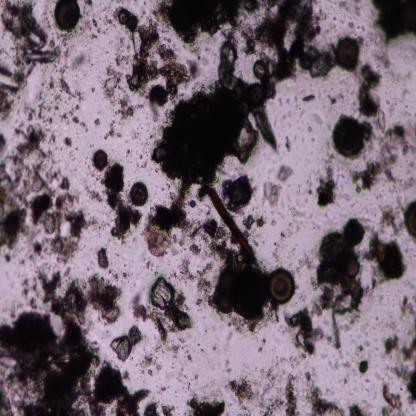Background material: (0, 310, 149, 416), (150, 76, 288, 188), (0, 156, 84, 262), (26, 261, 121, 332), (126, 20, 202, 97), (252, 0, 324, 77), (154, 0, 261, 50), (352, 121, 416, 194), (314, 264, 365, 346), (16, 66, 84, 127), (0, 0, 56, 70), (226, 358, 286, 415), (144, 186, 191, 258), (104, 161, 142, 243), (150, 278, 194, 330), (364, 232, 409, 282), (368, 0, 416, 43), (324, 0, 366, 47), (303, 372, 346, 415), (273, 203, 302, 264), (285, 312, 325, 356), (313, 151, 343, 207), (354, 59, 382, 118), (384, 358, 416, 406), (111, 322, 145, 364), (13, 126, 52, 162), (223, 175, 255, 216), (147, 84, 178, 123), (378, 195, 406, 237), (219, 36, 244, 82), (226, 314, 263, 341), (383, 334, 416, 364), (309, 46, 338, 78), (378, 383, 406, 416), (102, 65, 124, 106), (189, 393, 227, 416), (194, 261, 214, 303), (236, 25, 259, 60), (358, 314, 397, 334), (364, 266, 385, 303), (0, 67, 28, 94), (150, 308, 171, 343), (401, 288, 416, 336), (242, 215, 266, 242), (372, 47, 395, 74), (262, 177, 281, 209), (284, 368, 296, 416), (118, 97, 143, 120), (133, 293, 152, 323), (108, 265, 134, 286), (59, 31, 92, 47), (275, 94, 293, 123), (82, 216, 108, 236), (184, 217, 205, 241), (324, 354, 352, 372), (0, 90, 16, 120), (138, 350, 157, 375), (39, 7, 55, 35), (348, 398, 371, 416), (56, 46, 70, 74), (304, 212, 322, 233), (375, 107, 388, 136), (103, 119, 120, 141), (178, 373, 196, 393), (264, 302, 279, 326), (201, 380, 222, 396), (297, 253, 311, 277), (79, 7, 92, 32), (6, 300, 24, 318), (177, 266, 195, 284), (188, 243, 207, 260), (86, 183, 102, 202), (276, 164, 291, 184), (172, 233, 186, 254), (71, 54, 88, 71), (114, 33, 129, 52), (73, 116, 89, 133), (142, 401, 160, 416), (97, 248, 109, 270), (263, 272, 271, 304), (306, 302, 322, 318), (309, 108, 324, 125), (163, 343, 181, 357), (288, 354, 306, 368), (0, 133, 10, 158), (299, 91, 318, 104), (329, 90, 342, 108), (25, 61, 38, 79), (116, 52, 132, 66), (142, 132, 154, 150), (166, 270, 180, 284), (258, 337, 270, 353), (307, 172, 314, 198), (283, 134, 292, 154), (208, 288, 216, 310), (211, 266, 219, 288), (137, 153, 147, 169), (307, 279, 319, 292), (161, 404, 174, 416), (91, 172, 103, 185), (354, 341, 365, 355), (105, 16, 116, 30), (222, 359, 232, 374), (156, 384, 168, 396), (154, 342, 164, 356), (99, 4, 113, 14), (62, 137, 74, 148), (131, 128, 142, 140), (144, 258, 154, 271), (86, 57, 94, 73), (175, 332, 186, 343), (268, 216, 277, 228), (108, 0, 126, 6), (223, 342, 230, 357), (122, 370, 131, 381), (48, 38, 56, 50), (236, 254, 244, 266), (212, 342, 220, 354), (179, 360, 187, 371), (204, 203, 210, 217), (92, 14, 98, 28), (202, 324, 208, 338), (107, 58, 114, 69), (183, 258, 190, 269), (278, 328, 287, 336), (141, 7, 147, 19), (195, 297, 203, 306), (90, 33, 98, 41), (156, 361, 163, 370), (126, 148, 132, 158), (83, 0, 93, 6), (187, 354, 193, 364), (95, 117, 100, 127), (189, 199, 196, 206), (148, 368, 154, 376), (183, 345, 188, 354), (219, 313, 224, 321), (108, 38, 113, 46), (154, 270, 159, 278), (184, 304, 190, 310), (171, 361, 175, 370), (97, 27, 102, 34), (92, 86, 96, 93), (308, 127, 312, 134), (195, 374, 198, 381), (183, 411, 187, 416), (130, 357, 134, 362), (134, 362, 138, 367), (211, 325, 215, 330), (102, 30, 106, 34), (105, 50, 109, 54), (203, 315, 206, 320), (200, 349, 204, 352), (197, 308, 200, 311), (198, 343, 200, 347), (144, 2, 146, 6)
Cotton: (196, 181, 255, 264)
Diatom: (230, 266, 265, 320), (334, 115, 364, 157), (268, 267, 296, 305), (335, 38, 360, 72), (321, 231, 345, 266), (53, 0, 81, 30), (341, 216, 365, 244), (218, 267, 236, 292), (404, 201, 416, 237), (131, 183, 149, 207), (216, 290, 233, 314), (344, 254, 360, 275), (93, 148, 107, 170), (254, 60, 267, 78), (126, 14, 138, 30), (118, 8, 130, 23), (301, 55, 312, 70), (359, 359, 368, 372)
